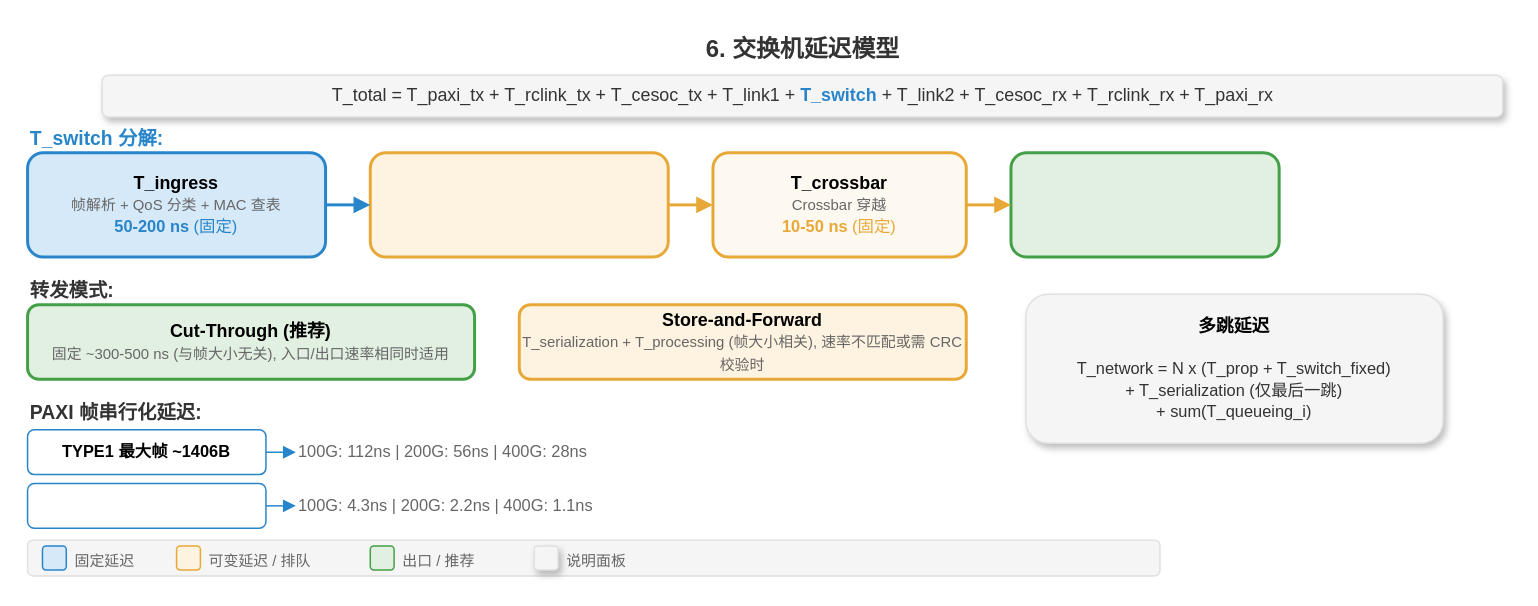
Image size: 1538x606. Some labels were removed from this diagram. The centre of each missing label's shape, as x and y in pixels:
"T_egress 出口调度 + 串行化 帧大小相关" goes at (x=1144, y=204).
"T_queueing VOQ 排队 + iSLIP 调度 0 ~ 数 us (负载相关)" goes at (x=518, y=204).
"TYPE1 ACK ~54B" goes at (x=146, y=505).
